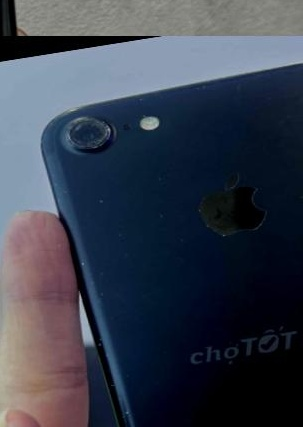scratch: (132, 57, 303, 124), (69, 246, 130, 397), (182, 177, 270, 244), (140, 159, 183, 245), (54, 104, 114, 160), (110, 395, 167, 427), (45, 160, 76, 212), (0, 0, 22, 32), (86, 186, 110, 208), (294, 145, 303, 170)
